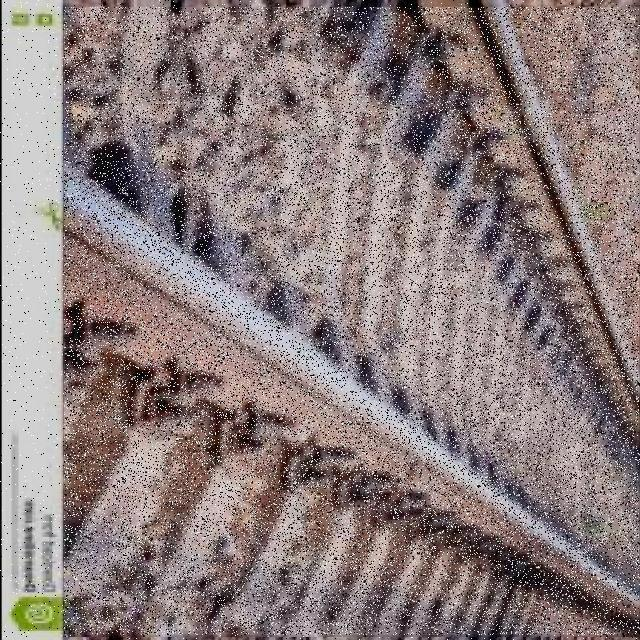rail: (66, 9, 640, 636)
